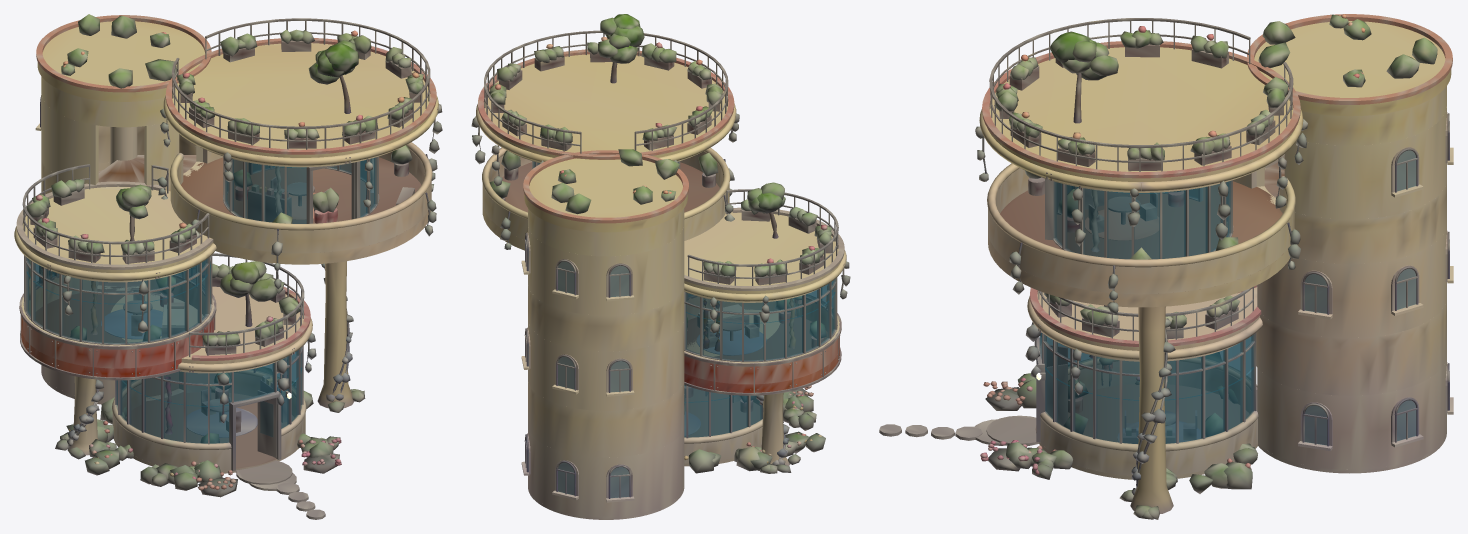
The model's file is ev_cam_ikiz.glb.
3 views of the same model, side by side, from view 1: azimuth 30°, elevation 25°; view 2: azimuth 150°, elevation 25°; view 3: azimuth 270°, elevation 25° (orthographic). The views are drawn at different scales.
Parts seen in each view (by area): view 1: ev_cam_ikiz_LOD0; view 2: ev_cam_ikiz_LOD0; view 3: ev_cam_ikiz_LOD0.
Part boxes in pixels (<box>): ev_cam_ikiz_LOD0: <box>14,14,442,519</box>; ev_cam_ikiz_LOD0: <box>471,14,850,519</box>; ev_cam_ikiz_LOD0: <box>879,14,1453,519</box>.
Size of what is drawn, in the model's own units: 17.78 by 17.6 by 19.79.
